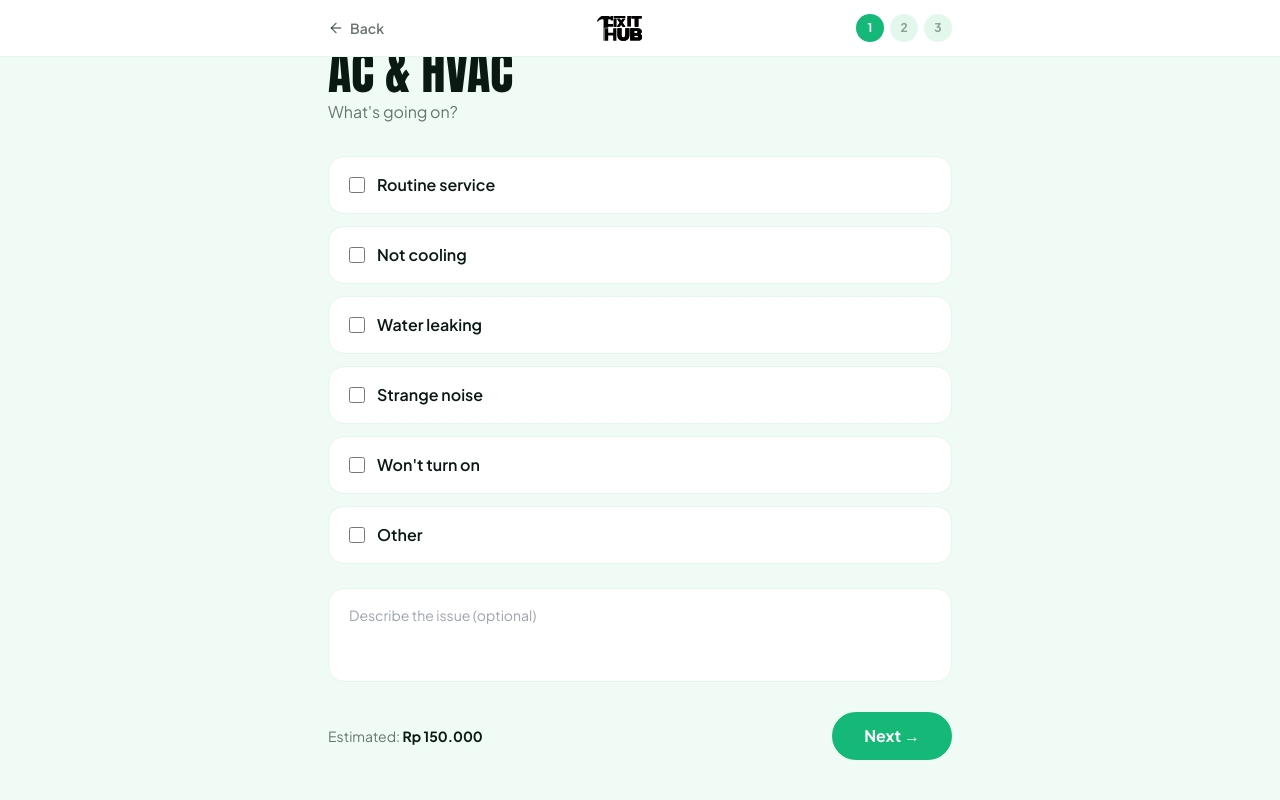
Booking — Step 2 › enables Next after selecting a date and time slot
The width and height of the screenshot is (1280, 800).
(page scrolled)
Click the button "Next →".
click(892, 736)  # box [832,712,952,760]
(page scrolled)
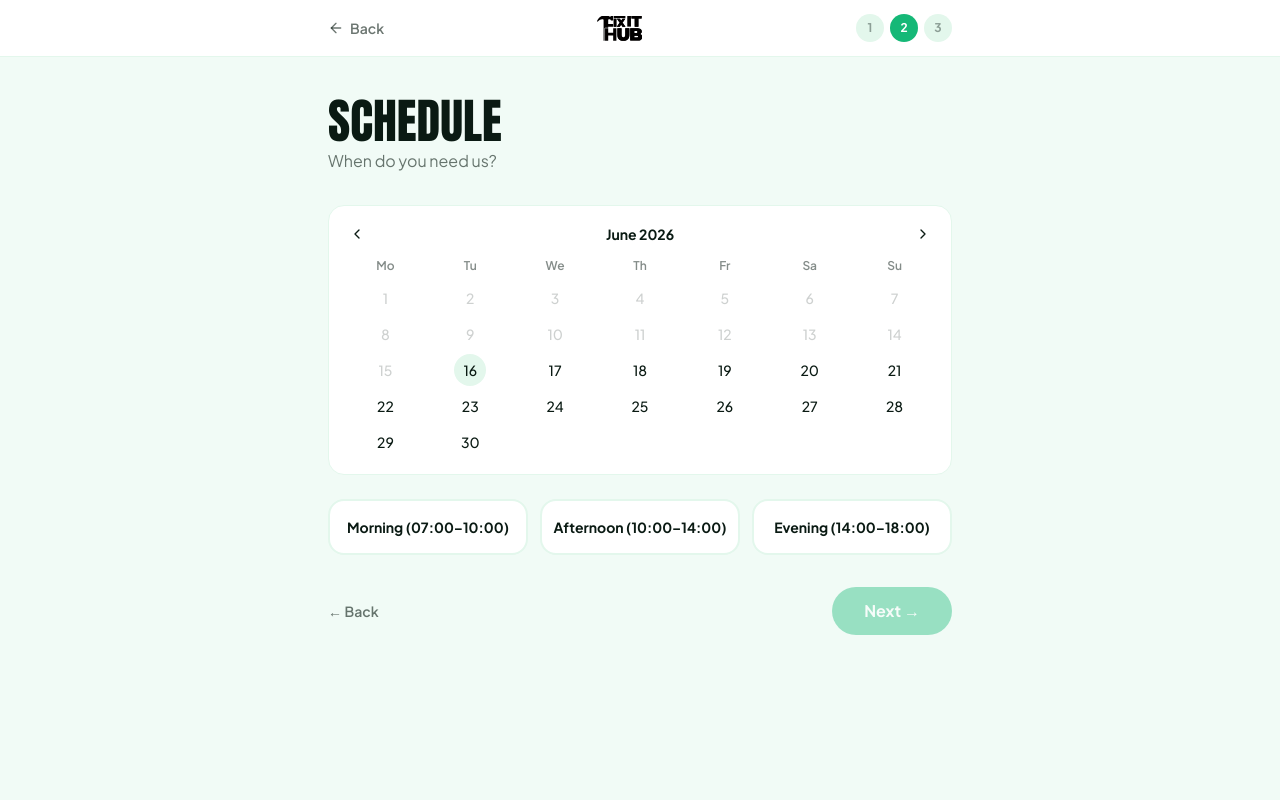
Click the button "16".
click(470, 370)  # box [454,354,486,386]
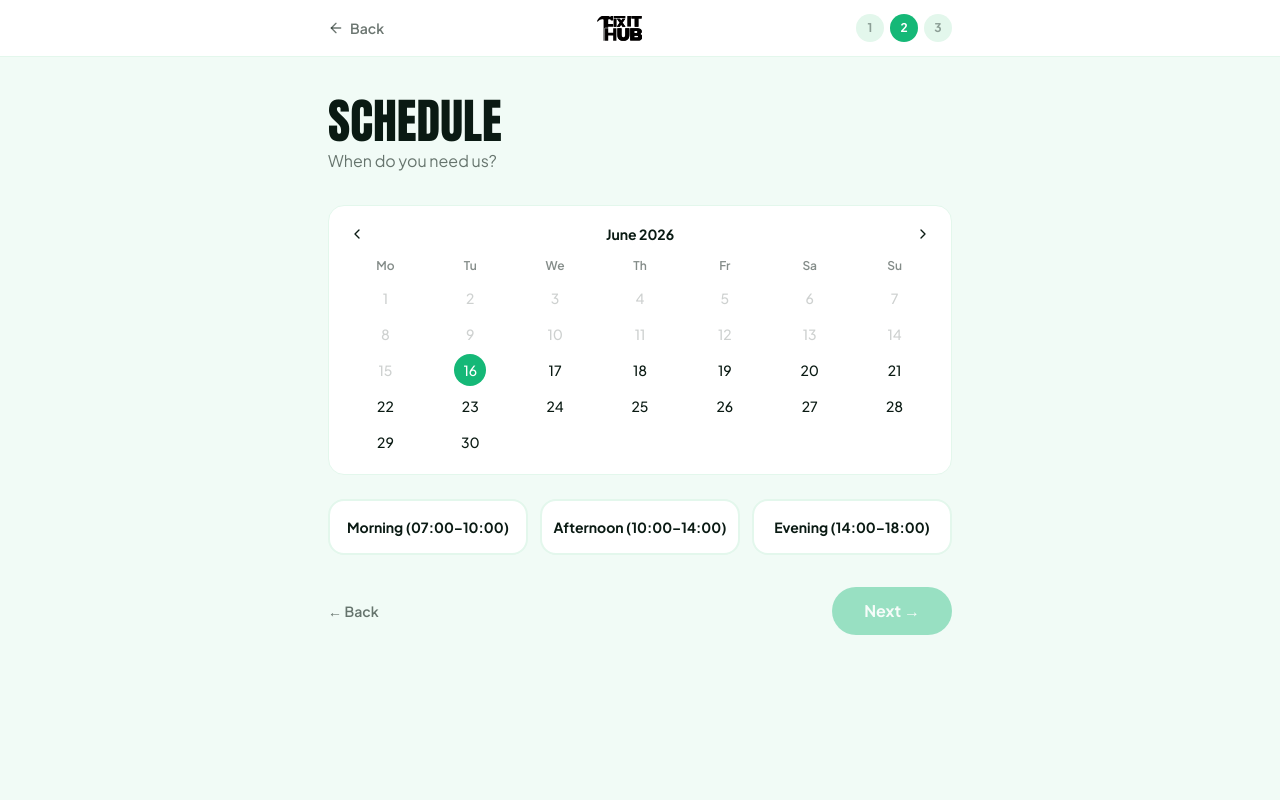
Click the button "Morning (07:00–10:00)".
click(428, 527)  # box [328,499,528,555]
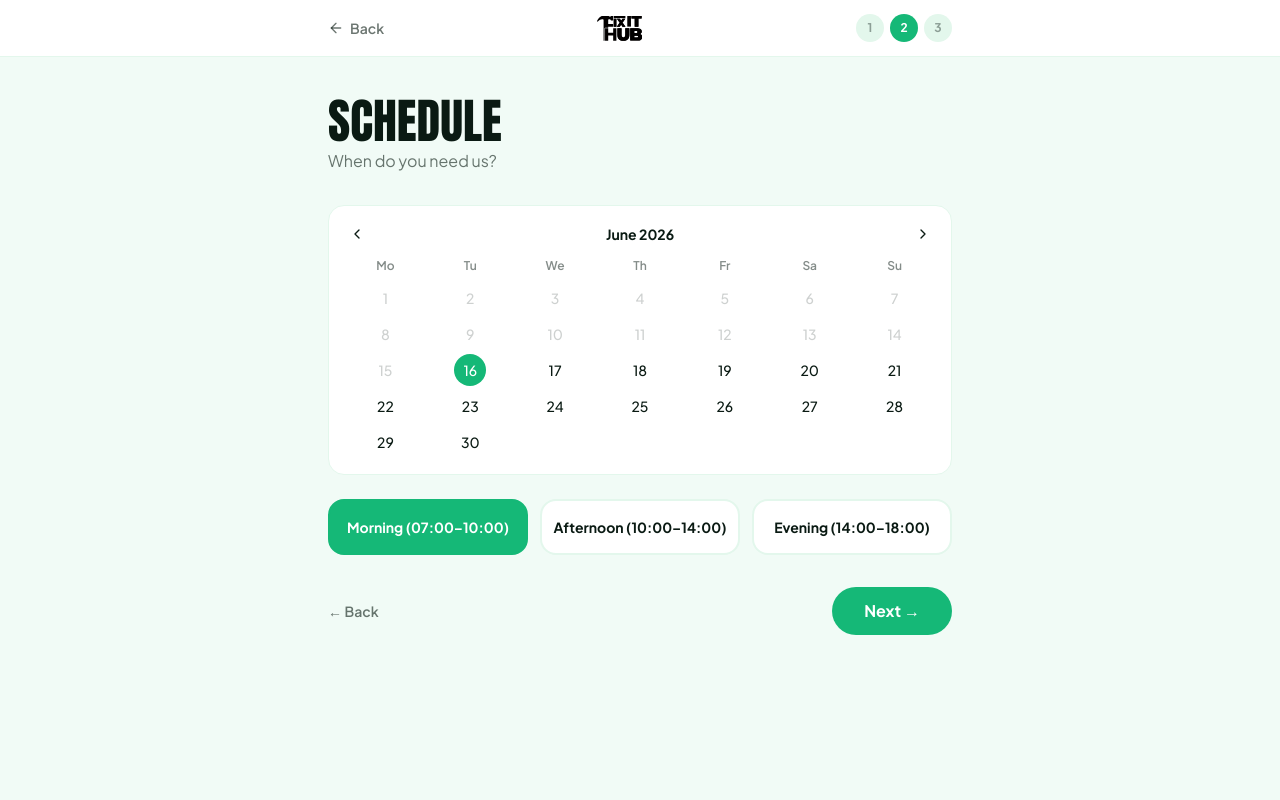
Result: the button "Next →" is enabled at [832,587,952,635]
